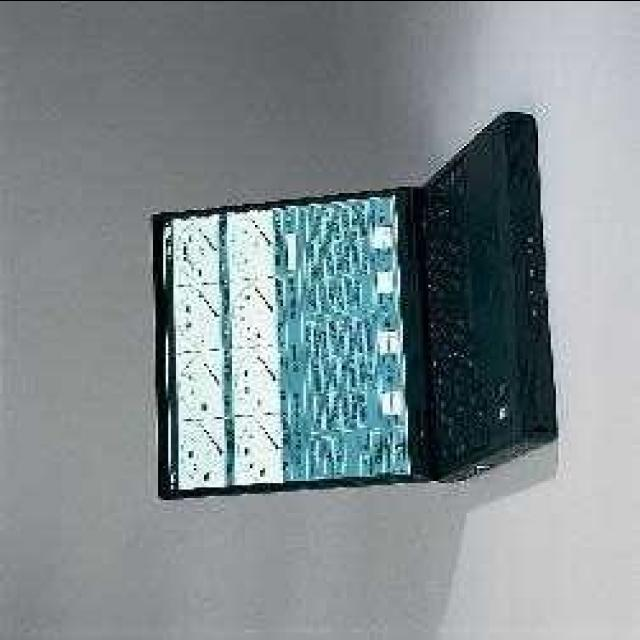laptop: (159, 174, 542, 471)
